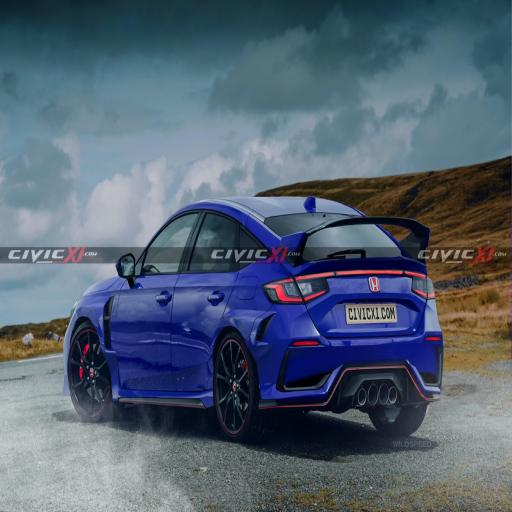Sedan-sDLz: (64, 196, 443, 442)
